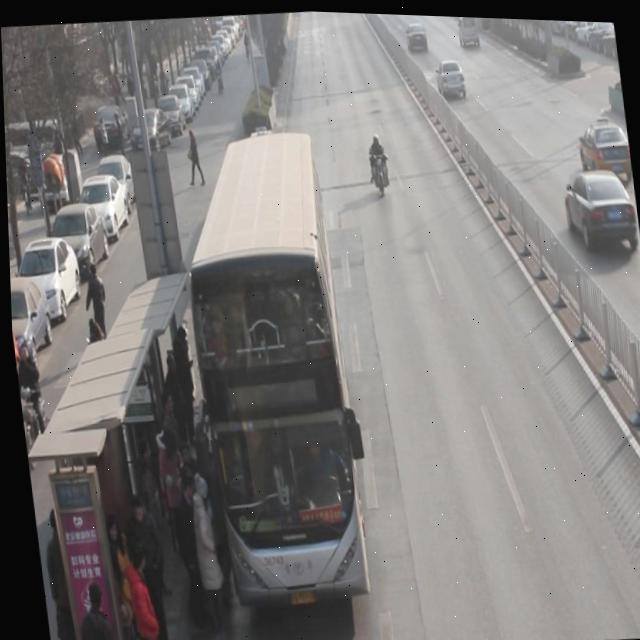car: (560, 161, 637, 254), (576, 110, 632, 181), (433, 54, 468, 100), (404, 17, 430, 51)
truck: (455, 13, 482, 48)
van: (167, 128, 369, 609)
